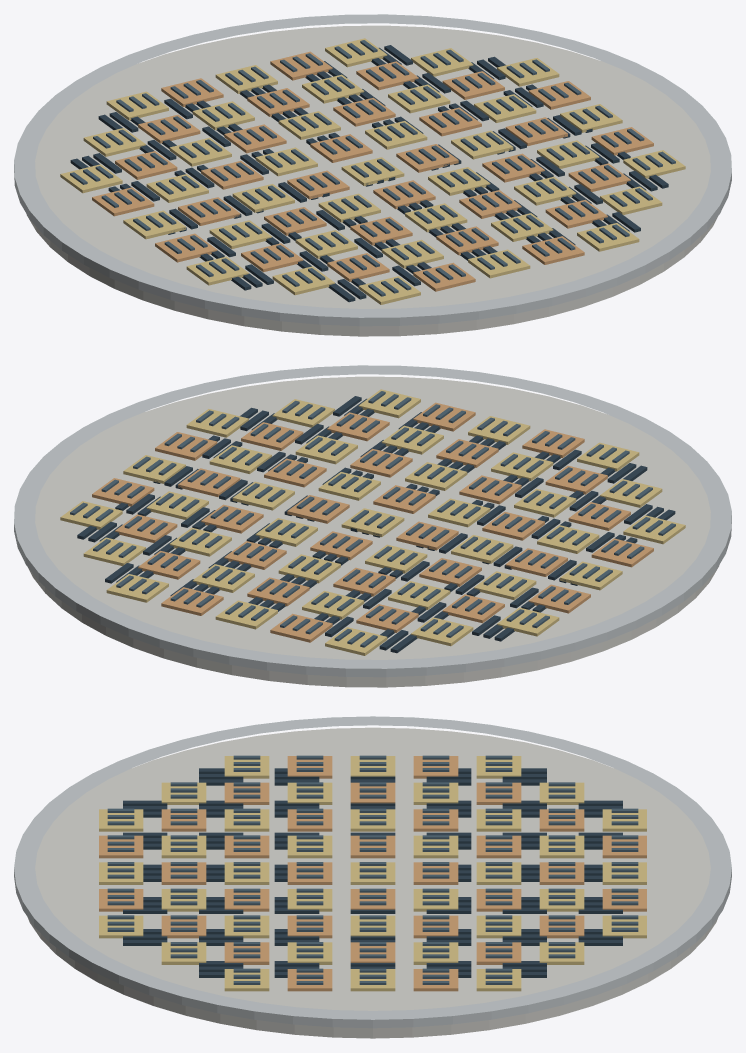
Rendered from 04_L76_PatternedDielectricTrenchWafer.glb.
3 views of the same model, one above another, from view 1: azimuth 30°, elevation 25°; view 2: azimuth 150°, elevation 25°; view 3: azimuth 270°, elevation 25° (orthographic).
Parts seen in each view (by area): view 1: PatternedDielectricTrenchWafer_Node_0000, PatternedDielectricTrenchWafer_Node_0001, PatternedDielectricTrenchWafer_Node_0206, PatternedDielectricTrenchWafer_Node_0010, PatternedDielectricTrenchWafer_Node_0058, PatternedDielectricTrenchWafer_Node_0094, PatternedDielectricTrenchWafer_Node_0130, PatternedDielectricTrenchWafer_Node_0066, PatternedDielectricTrenchWafer_Node_0098, PatternedDielectricTrenchWafer_Node_0170, PatternedDielectricTrenchWafer_Node_0202, PatternedDielectricTrenchWafer_Node_0006 (+59 smaller); view 2: PatternedDielectricTrenchWafer_Node_0000, PatternedDielectricTrenchWafer_Node_0001, PatternedDielectricTrenchWafer_Node_0214, PatternedDielectricTrenchWafer_Node_0074, PatternedDielectricTrenchWafer_Node_0010, PatternedDielectricTrenchWafer_Node_0110, PatternedDielectricTrenchWafer_Node_0146, PatternedDielectricTrenchWafer_Node_0066, PatternedDielectricTrenchWafer_Node_0106, PatternedDielectricTrenchWafer_Node_0178, PatternedDielectricTrenchWafer_Node_0218, PatternedDielectricTrenchWafer_Node_0014 (+59 smaller); view 3: PatternedDielectricTrenchWafer_Node_0000, PatternedDielectricTrenchWafer_Node_0001, PatternedDielectricTrenchWafer_Node_0090, PatternedDielectricTrenchWafer_Node_0094, PatternedDielectricTrenchWafer_Node_0098, PatternedDielectricTrenchWafer_Node_0102, PatternedDielectricTrenchWafer_Node_0106, PatternedDielectricTrenchWafer_Node_0110, PatternedDielectricTrenchWafer_Node_0114, PatternedDielectricTrenchWafer_Node_0126, PatternedDielectricTrenchWafer_Node_0130, PatternedDielectricTrenchWafer_Node_0134 (+59 smaller).
Boxes of the visible parts, x1,y1,x2,y2 form: PatternedDielectricTrenchWafer_Node_0000: (26,25,717,336); PatternedDielectricTrenchWafer_Node_0001: (14,14,731,326); PatternedDielectricTrenchWafer_Node_0206: (419,107,481,136); PatternedDielectricTrenchWafer_Node_0010: (123,210,185,239); PatternedDielectricTrenchWafer_Node_0058: (169,137,231,166); PatternedDielectricTrenchWafer_Node_0094: (224,124,286,153); PatternedDielectricTrenchWafer_Node_0130: (278,111,340,139); PatternedDielectricTrenchWafer_Node_0066: (232,184,294,212); PatternedDielectricTrenchWafer_Node_0098: (255,147,317,176); PatternedDielectricTrenchWafer_Node_0170: (365,121,427,149); PatternedDielectricTrenchWafer_Node_0202: (388,84,450,113); PatternedDielectricTrenchWafer_Node_0006: (92,187,154,216); PatternedDielectricTrenchWafer_Node_0000: (28,376,719,687); PatternedDielectricTrenchWafer_Node_0001: (14,365,731,677); PatternedDielectricTrenchWafer_Node_0214: (264,458,326,487); PatternedDielectricTrenchWafer_Node_0074: (514,488,576,517); PatternedDielectricTrenchWafer_Node_0010: (560,561,622,590); PatternedDielectricTrenchWafer_Node_0110: (459,475,521,504); PatternedDielectricTrenchWafer_Node_0146: (405,462,467,490); PatternedDielectricTrenchWafer_Node_0066: (451,535,513,563); PatternedDielectricTrenchWafer_Node_0106: (428,498,490,527); PatternedDielectricTrenchWafer_Node_0178: (318,472,380,500); PatternedDielectricTrenchWafer_Node_0218: (295,435,357,464); PatternedDielectricTrenchWafer_Node_0014: (591,538,653,567); PatternedDielectricTrenchWafer_Node_0000: (27,727,718,1038); PatternedDielectricTrenchWafer_Node_0001: (14,716,731,1028); PatternedDielectricTrenchWafer_Node_0090: (539,835,584,858); PatternedDielectricTrenchWafer_Node_0094: (476,835,521,858); PatternedDielectricTrenchWafer_Node_0098: (413,835,458,858); PatternedDielectricTrenchWafer_Node_0102: (350,835,395,858); PatternedDielectricTrenchWafer_Node_0106: (287,835,332,858); PatternedDielectricTrenchWafer_Node_0110: (224,835,269,858); PatternedDielectricTrenchWafer_Node_0114: (161,835,206,858); PatternedDielectricTrenchWafer_Node_0126: (539,862,584,884); PatternedDielectricTrenchWafer_Node_0130: (476,862,521,884); PatternedDielectricTrenchWafer_Node_0134: (413,862,458,884).
Bounding box in the file's own units: 1.94 × 0.0645 × 1.94.
